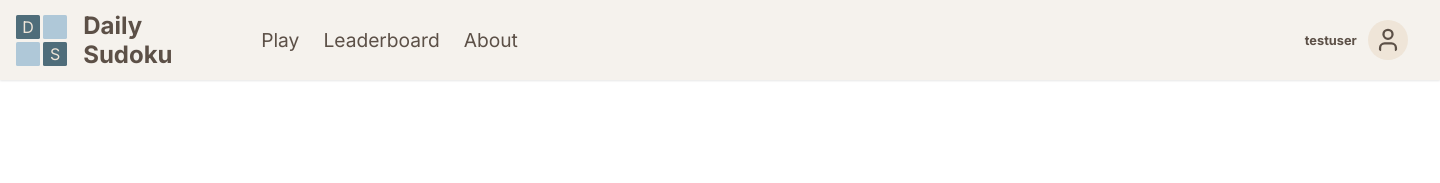
Header › hides dropdown when clicking outside
Click the button "testuser" at x=1364, y=40, box [1305,4,1424,76]
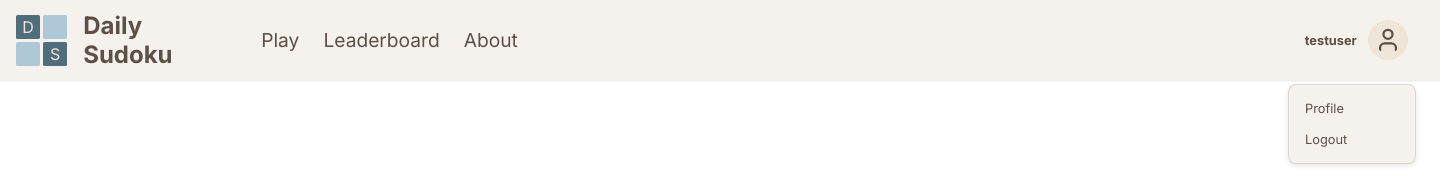
Now the link "Profile" is shown, box [1305,101,1344,116]
Press the mouse on the element that starts with "Daily Sudoku" at x=720, y=40, box [0,0,1439,80]
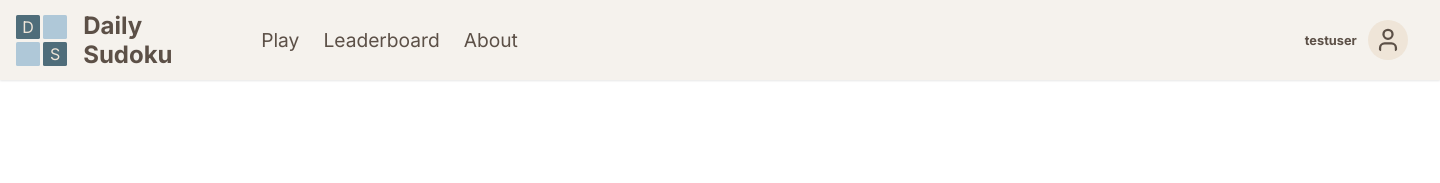
Now the link "Profile" is gone
